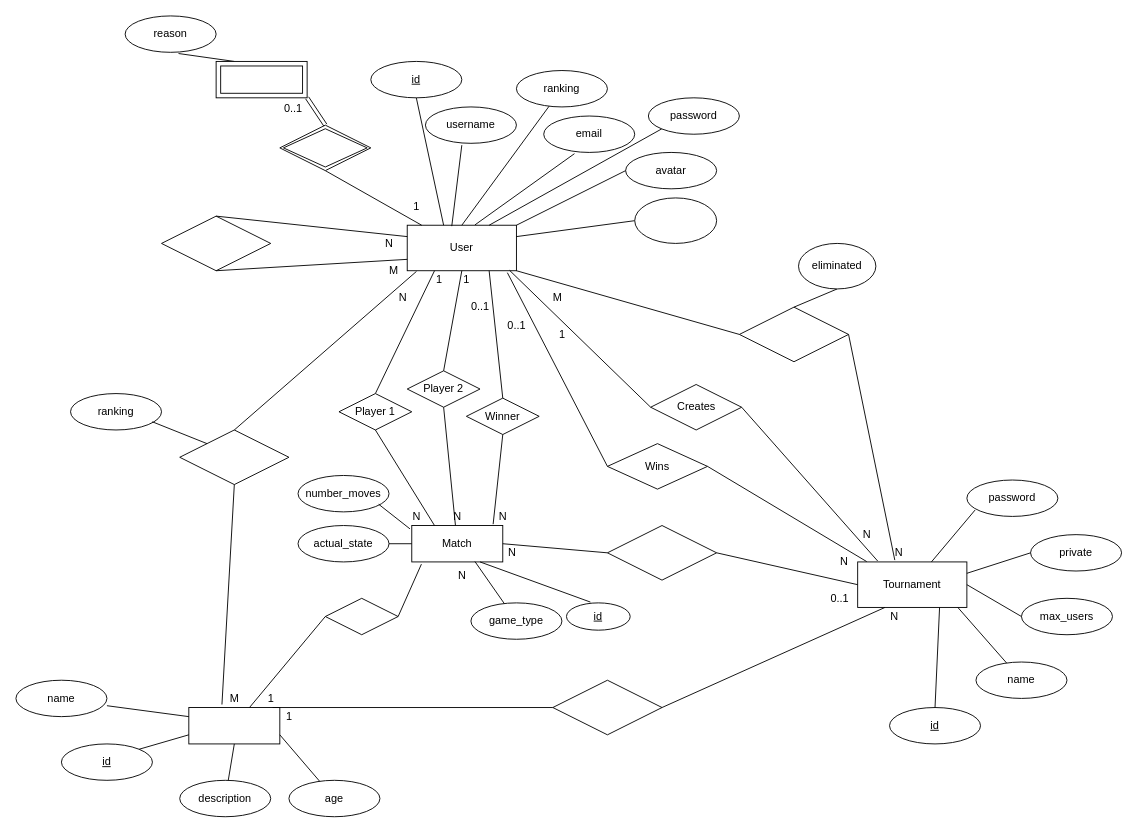
The diagram is 1138 pixels wide and 833 high, and some of its shapes have lost their labels. Here are the shapes that lost their labels. From the top down, the box of each, then its label:
(215, 61, 307, 98): Bans
(279, 124, 371, 171): Banned
(634, 197, 717, 243): account_type
(161, 215, 271, 271): Friend
(738, 306, 849, 362): Participates
(179, 429, 289, 485): Has Rank
(607, 525, 717, 580): Belongs
(324, 597, 398, 635): Instance
(188, 707, 280, 744): Game
(552, 679, 662, 735): Chosen Game
